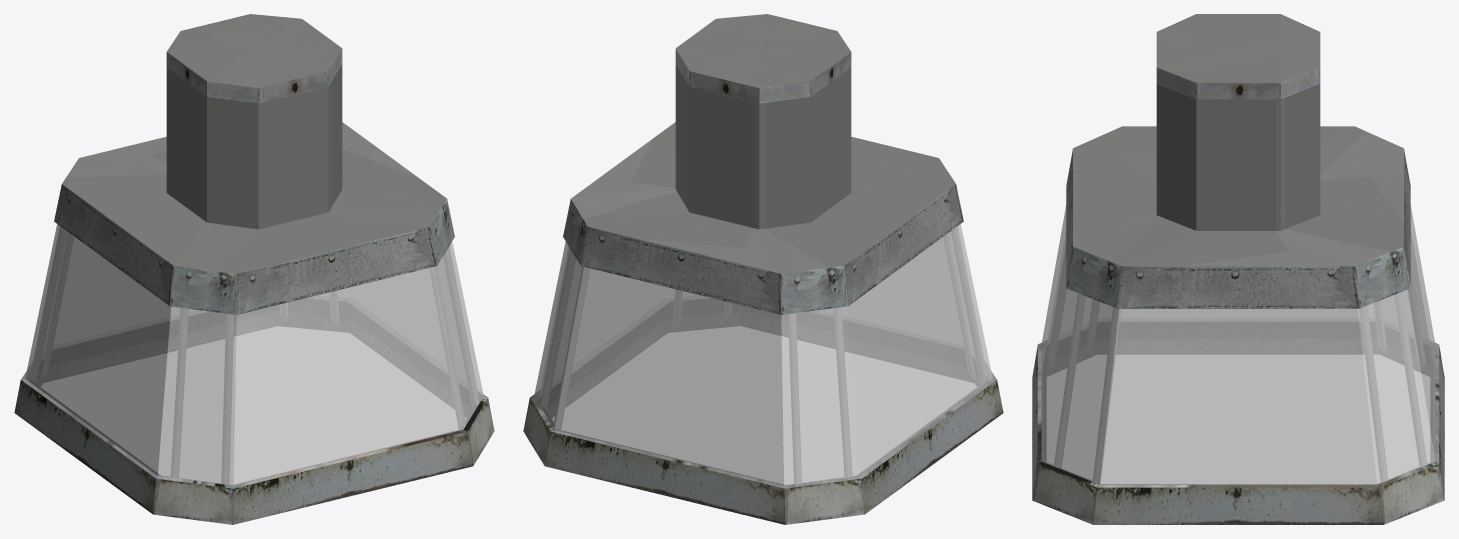
Rendered from Sonderanfertigung.glb.
3 views of the same model, side by side, from view 1: azimuth 30°, elevation 25°; view 2: azimuth 150°, elevation 25°; view 3: azimuth 270°, elevation 25° (orthographic). The views are drawn at different scales.
Visible parts, largest first — view 1: Cylinder, Innenstreben; view 2: Cylinder, Innenstreben; view 3: Cylinder, Innenstreben.
Part boxes in pixels (x1=…): Cylinder: x1=14, y1=14, x2=494, y2=524; Innenstreben: x1=31, y1=227, x2=478, y2=484; Cylinder: x1=523, y1=14, x2=1003, y2=524; Innenstreben: x1=540, y1=228, x2=985, y2=483; Cylinder: x1=1032, y1=14, x2=1444, y2=524; Innenstreben: x1=1047, y1=250, x2=1426, y2=482.
Bounding box in the file's own units: 0.4817 × 0.5036 × 0.4817.
Materials: 4 (3 with a texture image).
